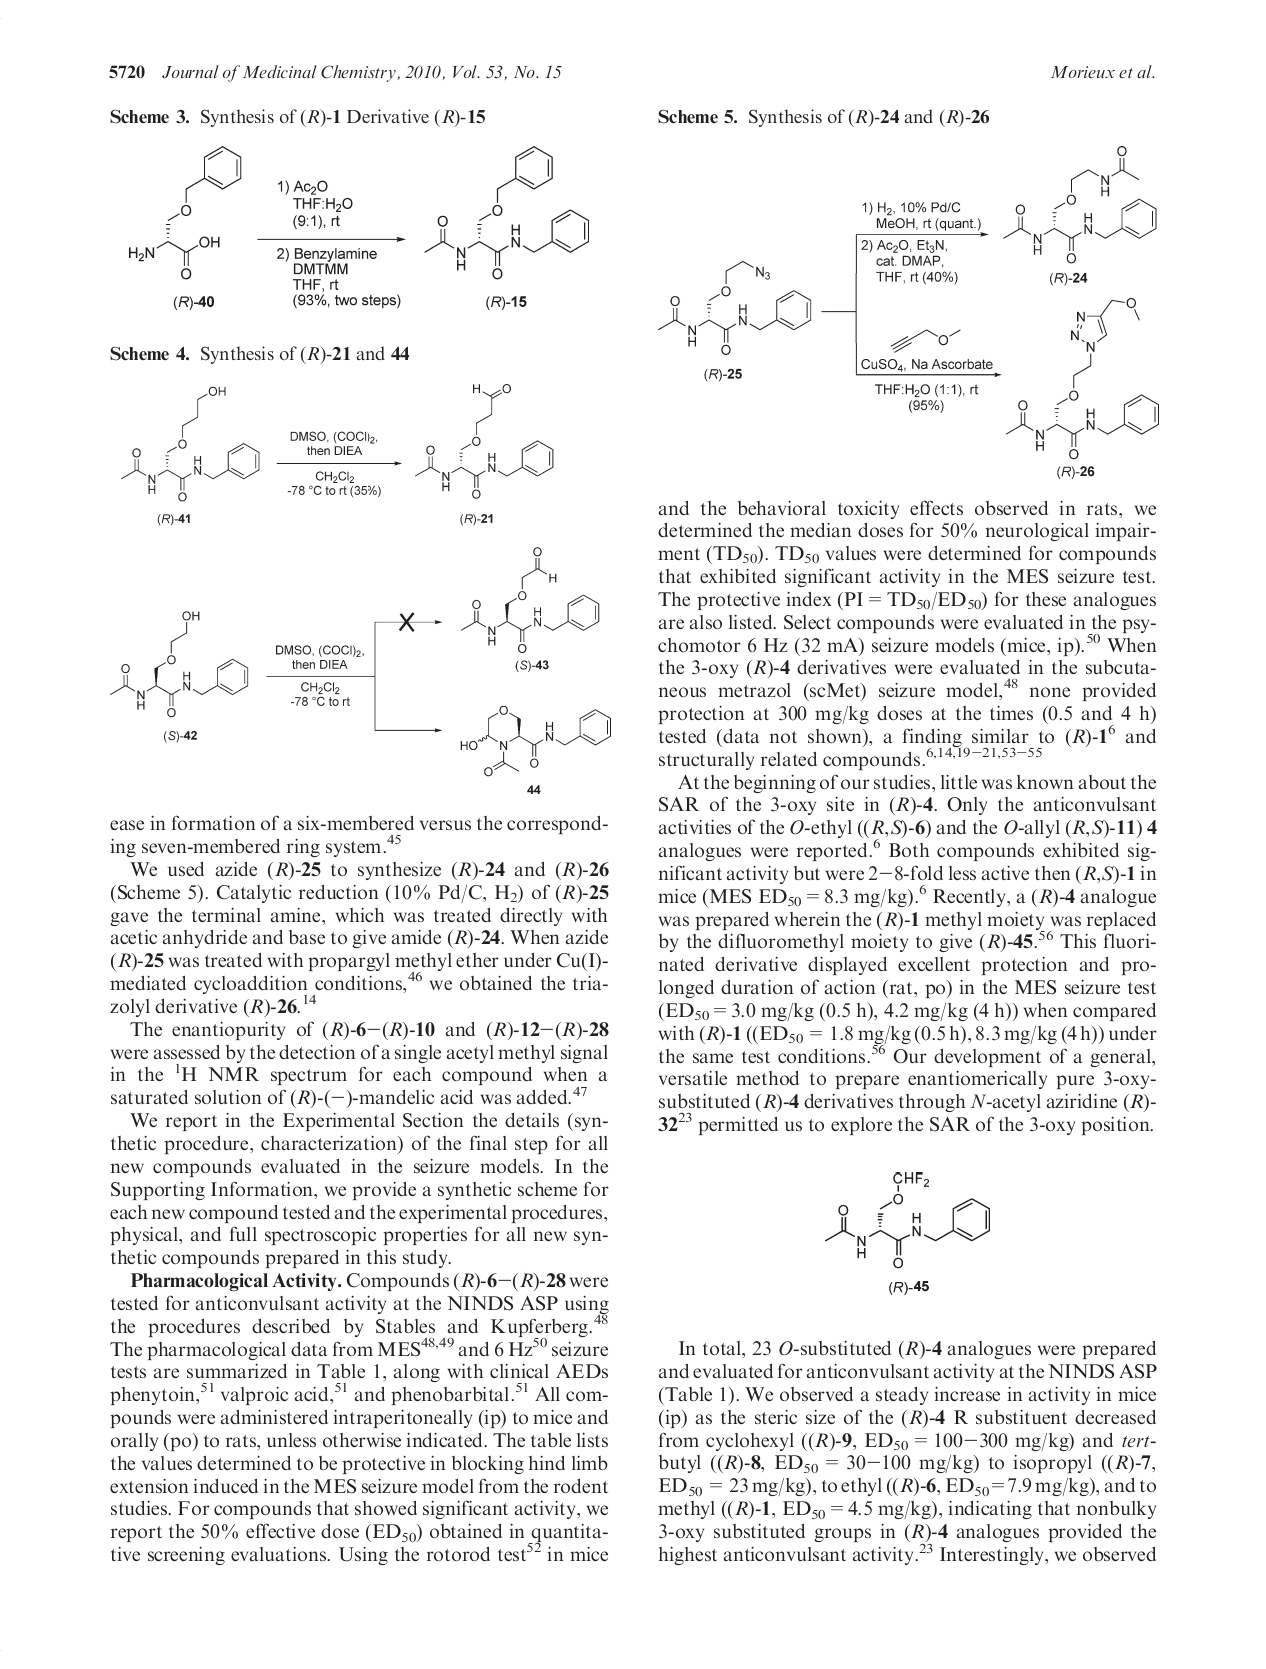exist_molecular: (1004, 297, 1162, 461), (423, 144, 592, 279), (1003, 144, 1160, 265), (414, 380, 556, 499), (121, 384, 262, 503), (459, 541, 602, 653), (128, 144, 243, 281), (656, 259, 814, 356), (109, 610, 250, 718), (457, 704, 613, 778)
